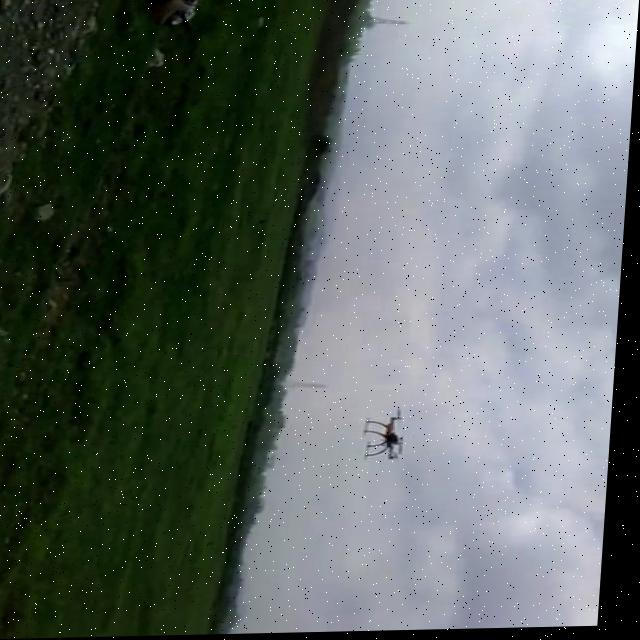drone: (362, 407, 420, 467)
